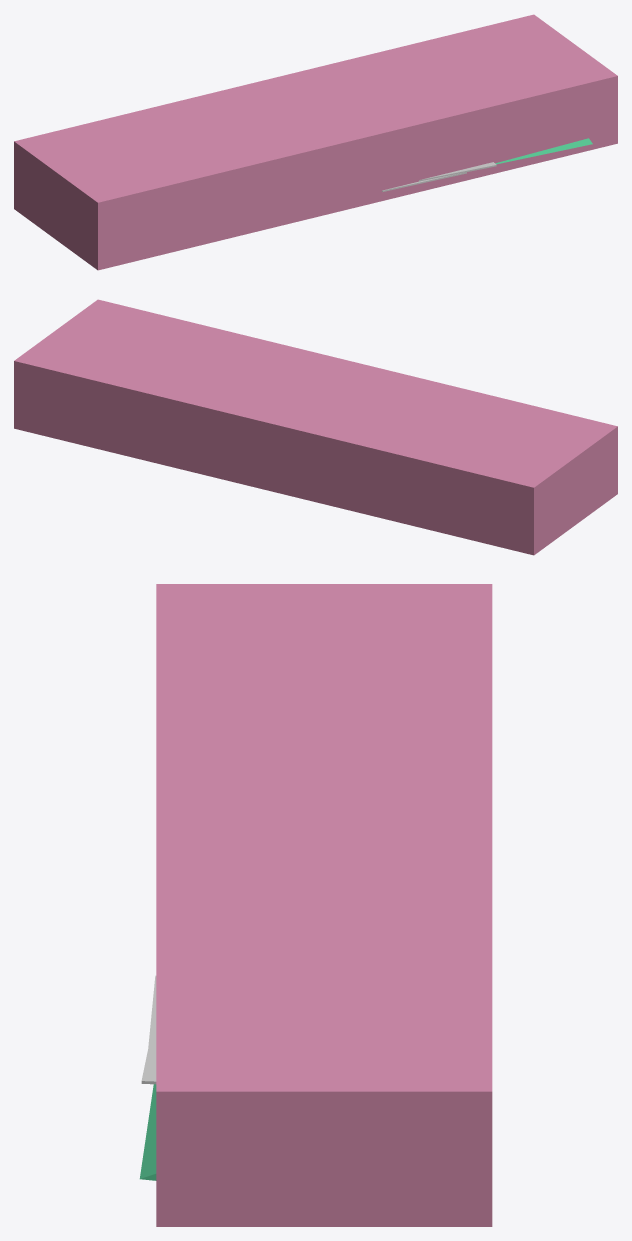
Rendered from ind_rubbish_01_a.dae.
3 views of the same model, one above another, from view 1: azimuth 30°, elevation 25°; view 2: azimuth 150°, elevation 25°; view 3: azimuth 270°, elevation 25° (orthographic). The views are drawn at different scales.
Parts seen in each view (by area): view 1: Untitled, Colmesh-1; view 2: Untitled; view 3: Untitled, Colmesh-1.
Part boxes in pixels (left/top/right/bottom): Untitled: left=14, top=14, right=617, bottom=270; Colmesh-1: left=495, top=138, right=592, bottom=164; Untitled: left=14, top=299, right=617, bottom=555; Untitled: left=156, top=584, right=492, bottom=1226; Colmesh-1: left=139, top=1084, right=156, bottom=1180.
Bounding box in the file's own units: 6.28 × 1.84 × 0.7812.
